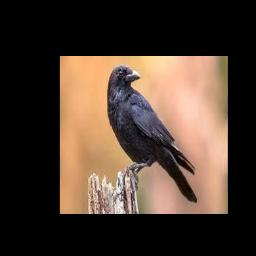Crow: (108, 65, 198, 204)
